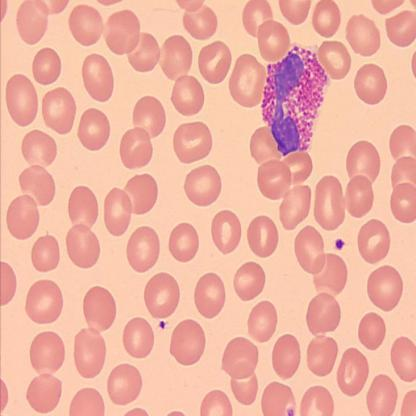Eosinophil: (261, 41, 332, 154)
